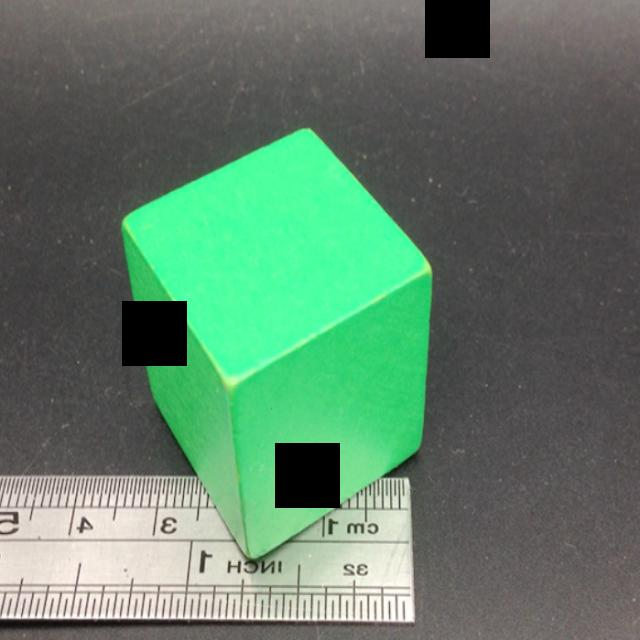green cube: (118, 123, 433, 564)
